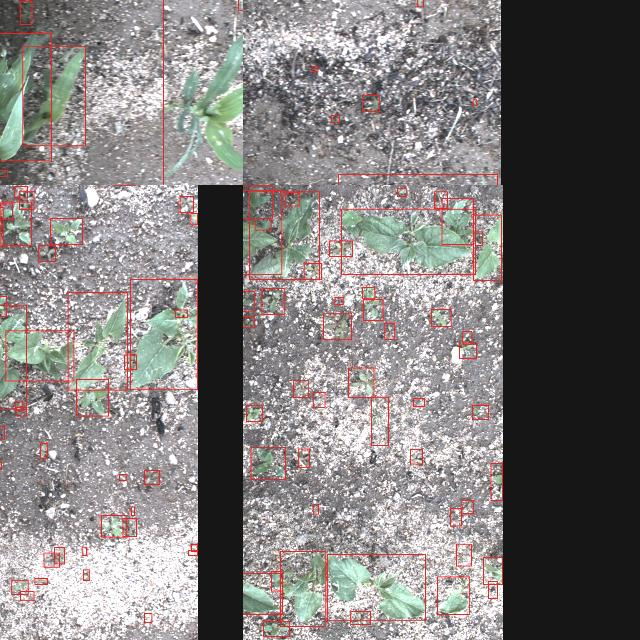crop: (162, 0, 243, 185), (340, 209, 476, 275), (130, 279, 198, 389), (326, 554, 426, 620), (0, 33, 50, 161), (23, 46, 86, 146), (249, 192, 319, 280), (68, 292, 128, 390), (280, 552, 326, 626), (6, 331, 74, 381), (243, 190, 282, 274), (0, 305, 26, 408), (473, 215, 502, 281), (243, 573, 282, 614), (437, 577, 469, 615), (0, 170, 7, 176)
weed: (442, 199, 474, 245), (1, 202, 31, 246), (76, 380, 108, 416), (250, 448, 286, 480), (243, 185, 272, 218), (50, 218, 82, 244), (372, 396, 388, 446), (322, 314, 352, 340), (348, 368, 374, 398), (262, 288, 284, 314), (102, 515, 126, 537), (483, 558, 502, 584), (491, 464, 503, 501), (363, 300, 383, 320), (263, 622, 289, 636), (330, 241, 352, 257), (456, 544, 472, 566), (304, 262, 322, 280), (431, 310, 451, 326), (362, 95, 380, 112), (38, 246, 56, 262), (459, 343, 476, 359), (19, 2, 31, 24), (472, 404, 488, 420), (246, 406, 262, 422), (20, 191, 34, 209), (123, 519, 137, 537), (294, 380, 308, 398), (350, 612, 370, 624), (180, 196, 194, 212), (144, 470, 160, 484), (12, 580, 28, 594), (434, 192, 448, 208), (243, 291, 254, 311), (298, 449, 310, 467), (0, 204, 13, 220), (272, 571, 282, 591), (451, 508, 462, 526), (44, 553, 58, 567), (124, 354, 136, 370), (313, 392, 325, 408), (255, 218, 271, 230), (285, 192, 299, 205), (411, 450, 423, 464), (462, 500, 474, 514), (54, 548, 64, 564), (385, 323, 395, 339), (488, 582, 498, 598), (15, 186, 28, 198), (0, 296, 7, 316), (20, 591, 34, 601), (243, 316, 254, 327), (363, 288, 375, 298), (462, 332, 472, 344), (16, 406, 27, 416), (41, 444, 48, 458), (176, 310, 188, 318), (190, 213, 198, 224), (34, 578, 48, 584), (476, 232, 482, 246), (82, 570, 90, 580), (144, 613, 152, 623), (414, 399, 424, 407), (398, 188, 407, 196), (335, 297, 343, 305), (15, 402, 22, 411), (188, 550, 198, 556), (312, 504, 318, 514), (0, 426, 4, 439), (238, 0, 243, 10), (331, 116, 339, 122), (192, 544, 198, 552), (82, 546, 86, 556), (312, 66, 318, 72), (418, 0, 424, 6), (120, 474, 126, 480), (473, 100, 477, 106), (132, 506, 134, 516)
